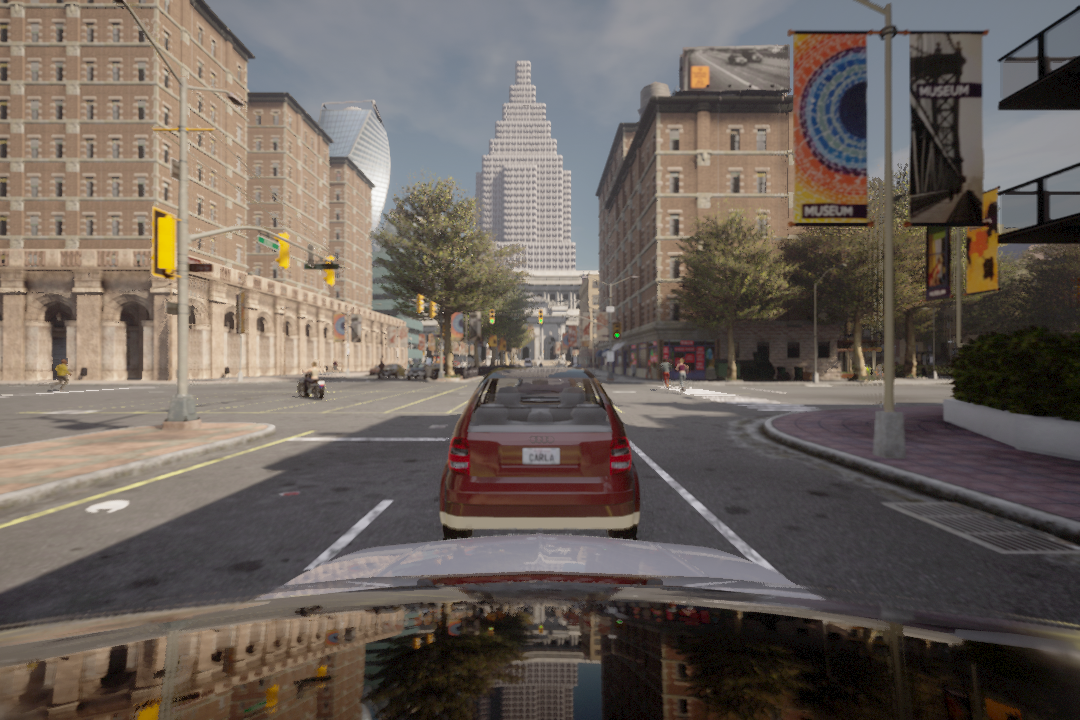TrafficLight: (608, 324, 622, 341), (536, 309, 547, 327), (487, 308, 496, 327)
